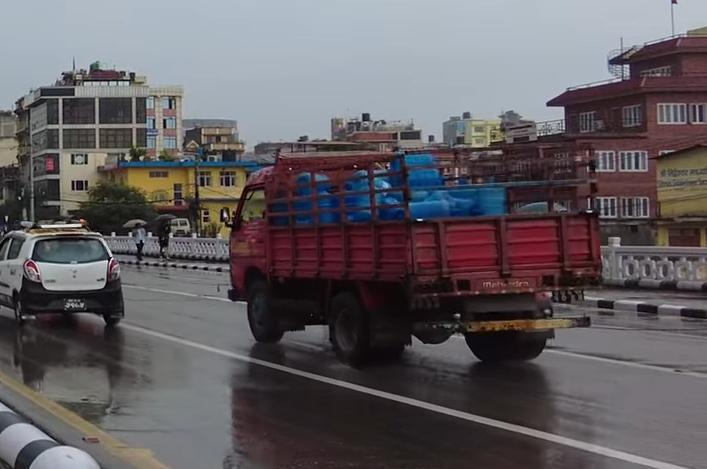mini_truck: (205, 128, 613, 367)
taxi: (0, 206, 133, 335)
